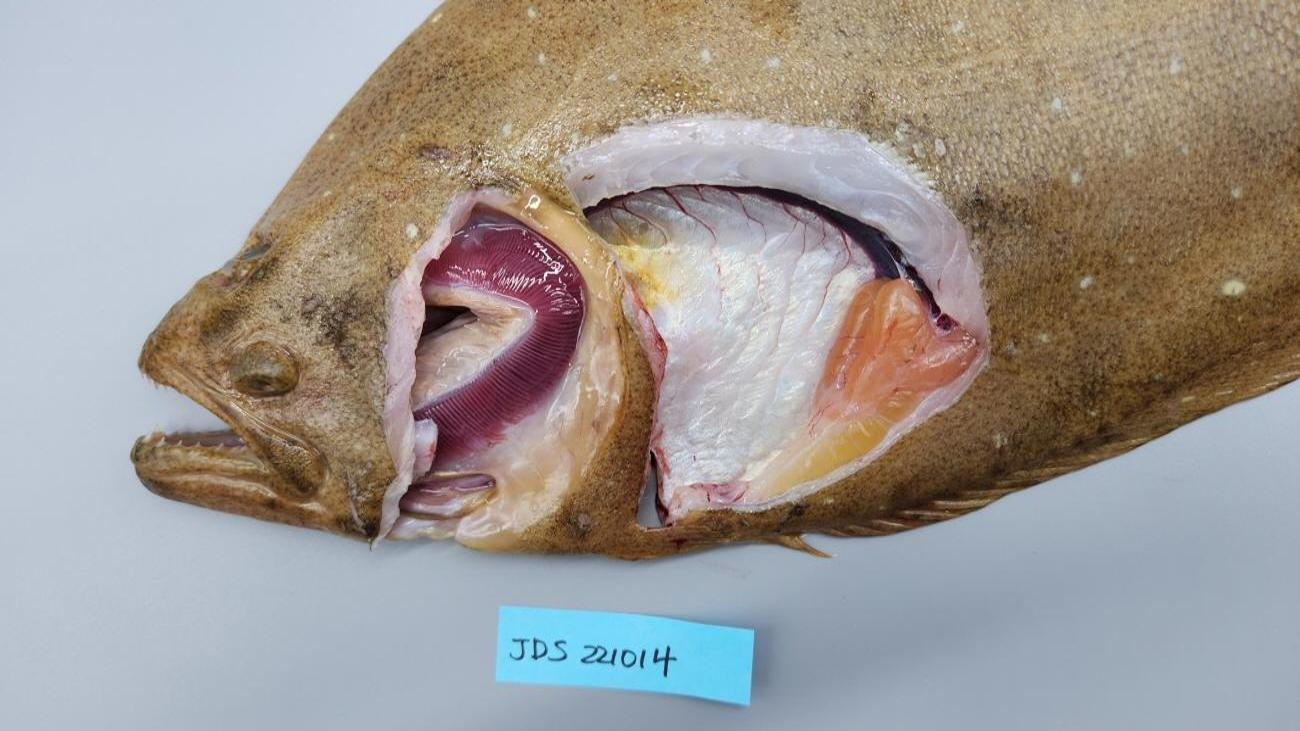POASN: (590, 185, 878, 518)
POREN: (724, 277, 972, 511)
